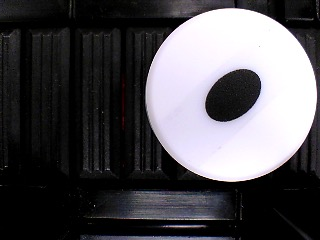BOHOEL: (145, 7, 318, 182)
